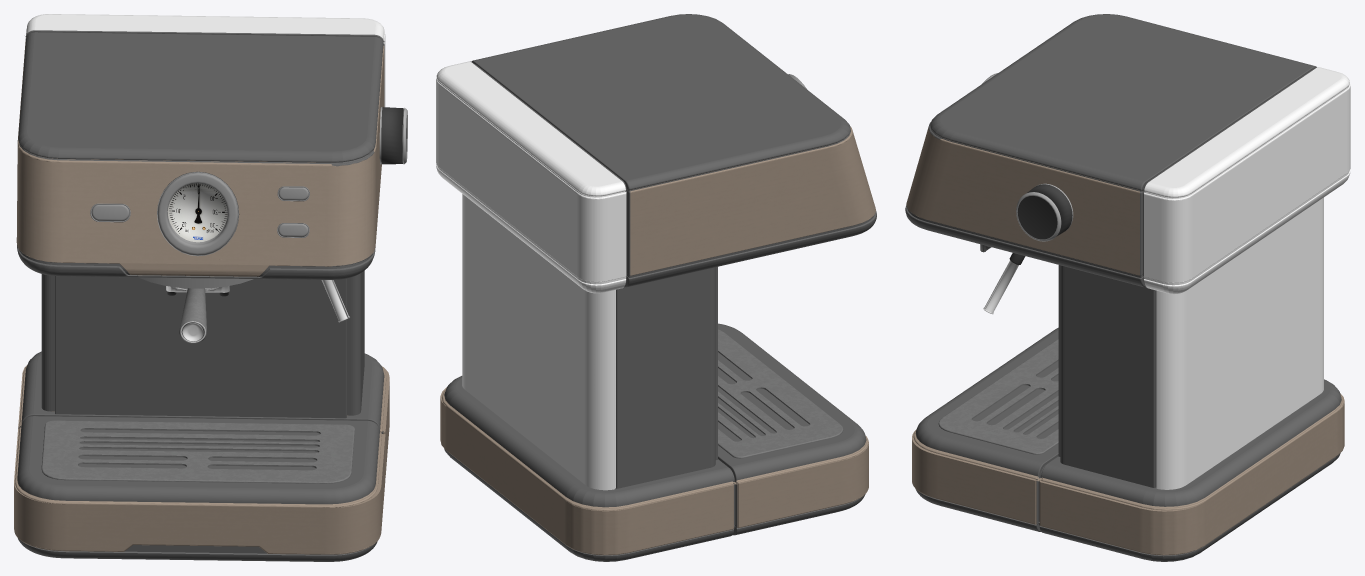
Rendered from coffee-machine.glb.
3 renders of one model, left to right at view 1: azimuth 30°, elevation 25°; view 2: azimuth 150°, elevation 25°; view 3: azimuth 270°, elevation 25°, orthographic. The views are drawn at different scales.
Visible parts, largest first — view 1: Cube, Cube.001, Cube.005, Cube.004, Cylinder.006, Cylinder.001, Cylinder, Cylinder.004; view 2: Cube, Cube.001; view 3: Cube, Cube.001, Cylinder.006, Cylinder.004.
Part boxes in pixels (box(x1,y1,x2,y2)): Cube: box(14, 14, 389, 561); Cube.001: box(41, 420, 354, 483); Cube.005: box(157, 171, 239, 256); Cube.004: box(90, 186, 309, 237); Cylinder.006: box(379, 107, 407, 164); Cylinder.001: box(166, 286, 229, 343); Cylinder: box(138, 277, 253, 288); Cylinder.004: box(321, 280, 349, 322); Cube: box(436, 14, 876, 561); Cube.001: box(718, 329, 843, 458); Cube: box(905, 14, 1350, 561); Cube.001: box(938, 339, 1058, 454); Cylinder.006: box(1016, 183, 1073, 241); Cylinder.004: box(983, 253, 1025, 314).
Bounding box in the file's own units: 2.96 × 2.77 × 2.97.
Materials: 10 (3 with a texture image).
